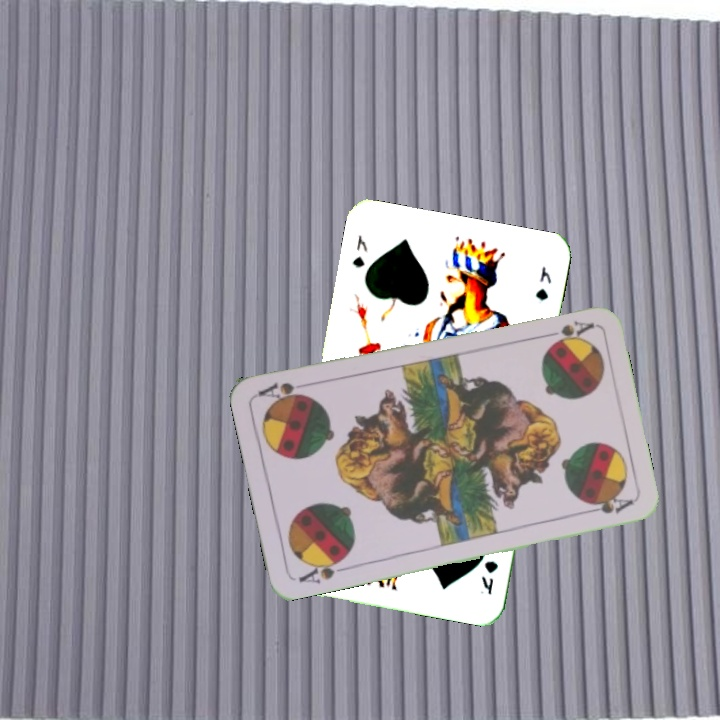GK: (477, 556, 501, 597), (348, 231, 370, 270)
SA: (294, 552, 351, 586), (537, 317, 596, 346)
